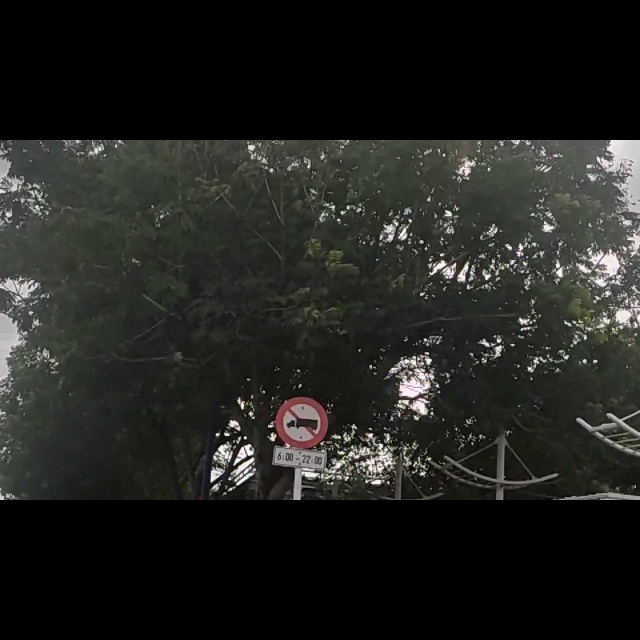bien_cam: (272, 459, 326, 584)
